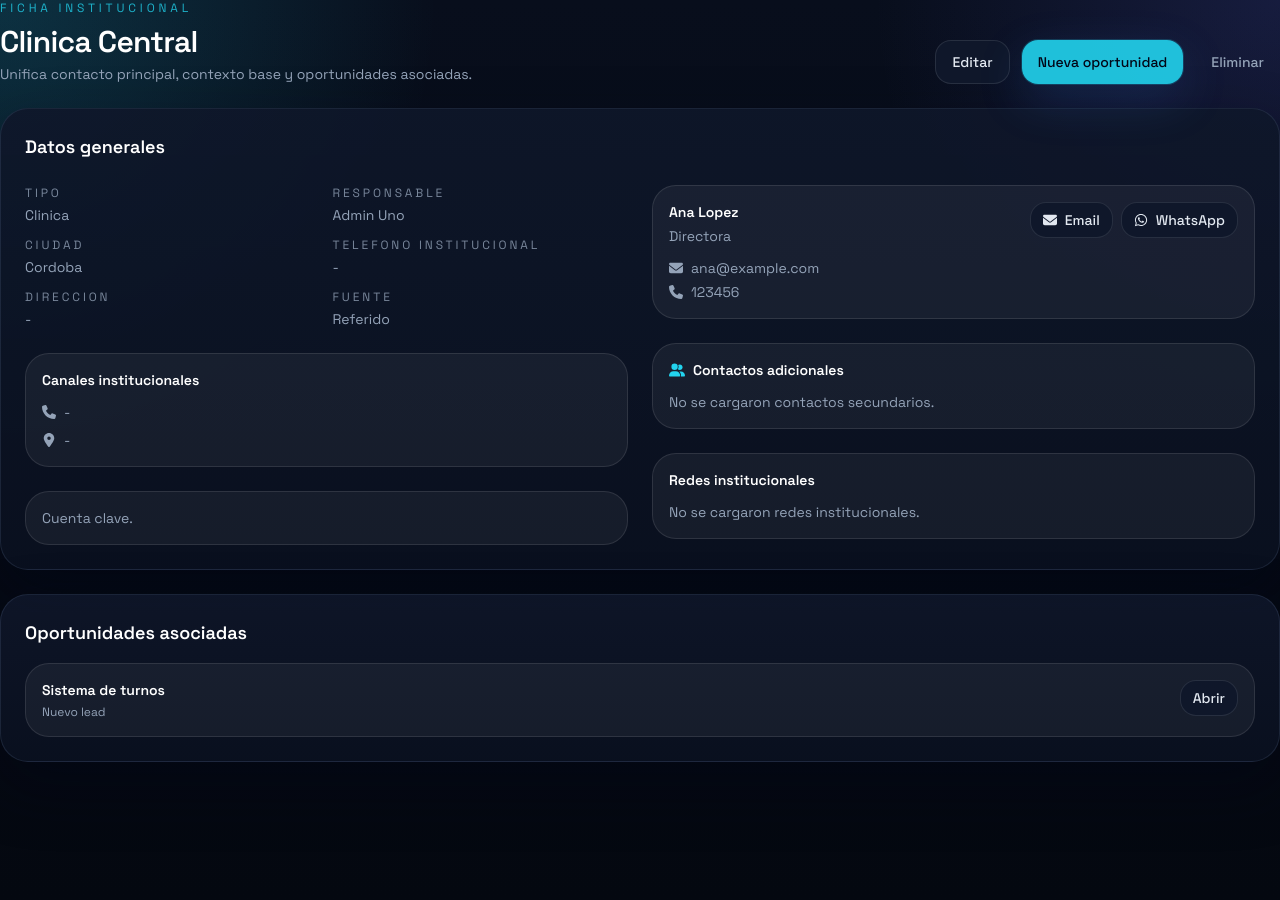
Test case: InstitutionDetailPage › mantiene el modal abierto y muestra el error si falla el borrado
Expected: the heading "Clinica Central" is shown, [0,22,198,61]
Click the button "Eliminar".
click(1238, 62)  # box [1195,40,1279,84]
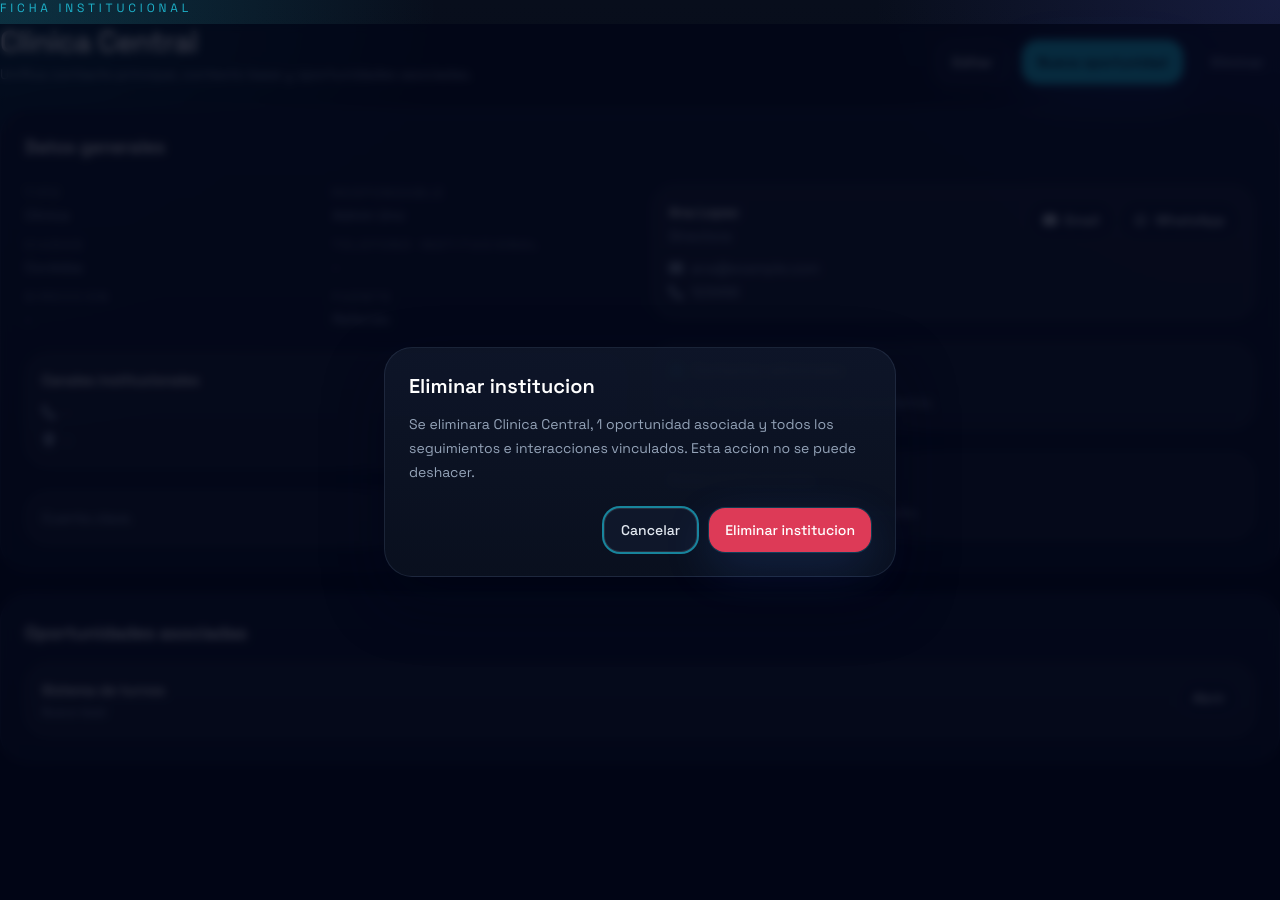
Click the button "Eliminar institucion".
click(790, 530)  # box [709,508,871,552]
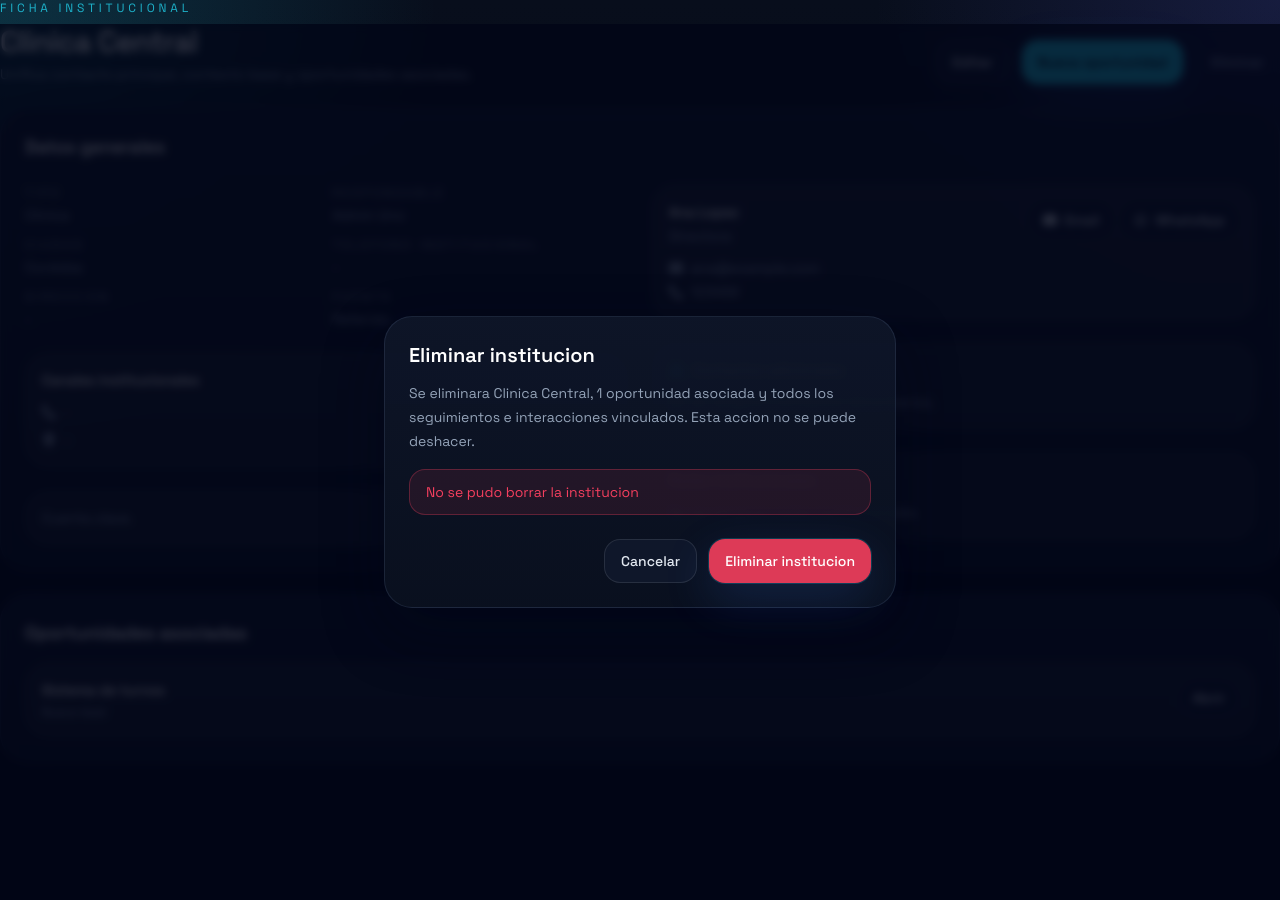
Result: the text "No se pudo borrar la institucion" is shown at [409,469,871,515]
